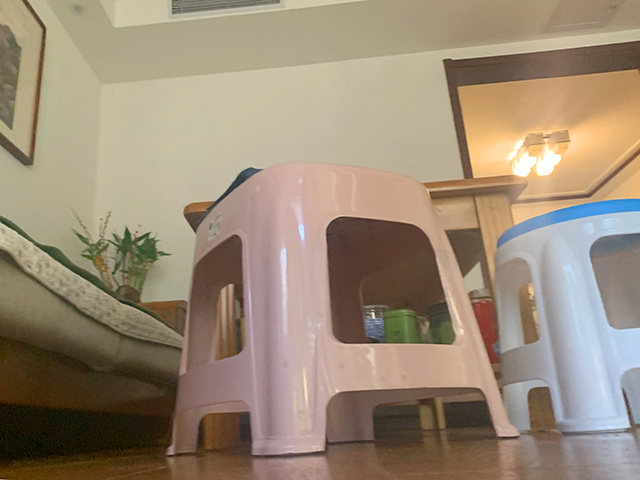sofa: (1, 216, 187, 449)
stool: (163, 160, 520, 455), (492, 196, 640, 435)
